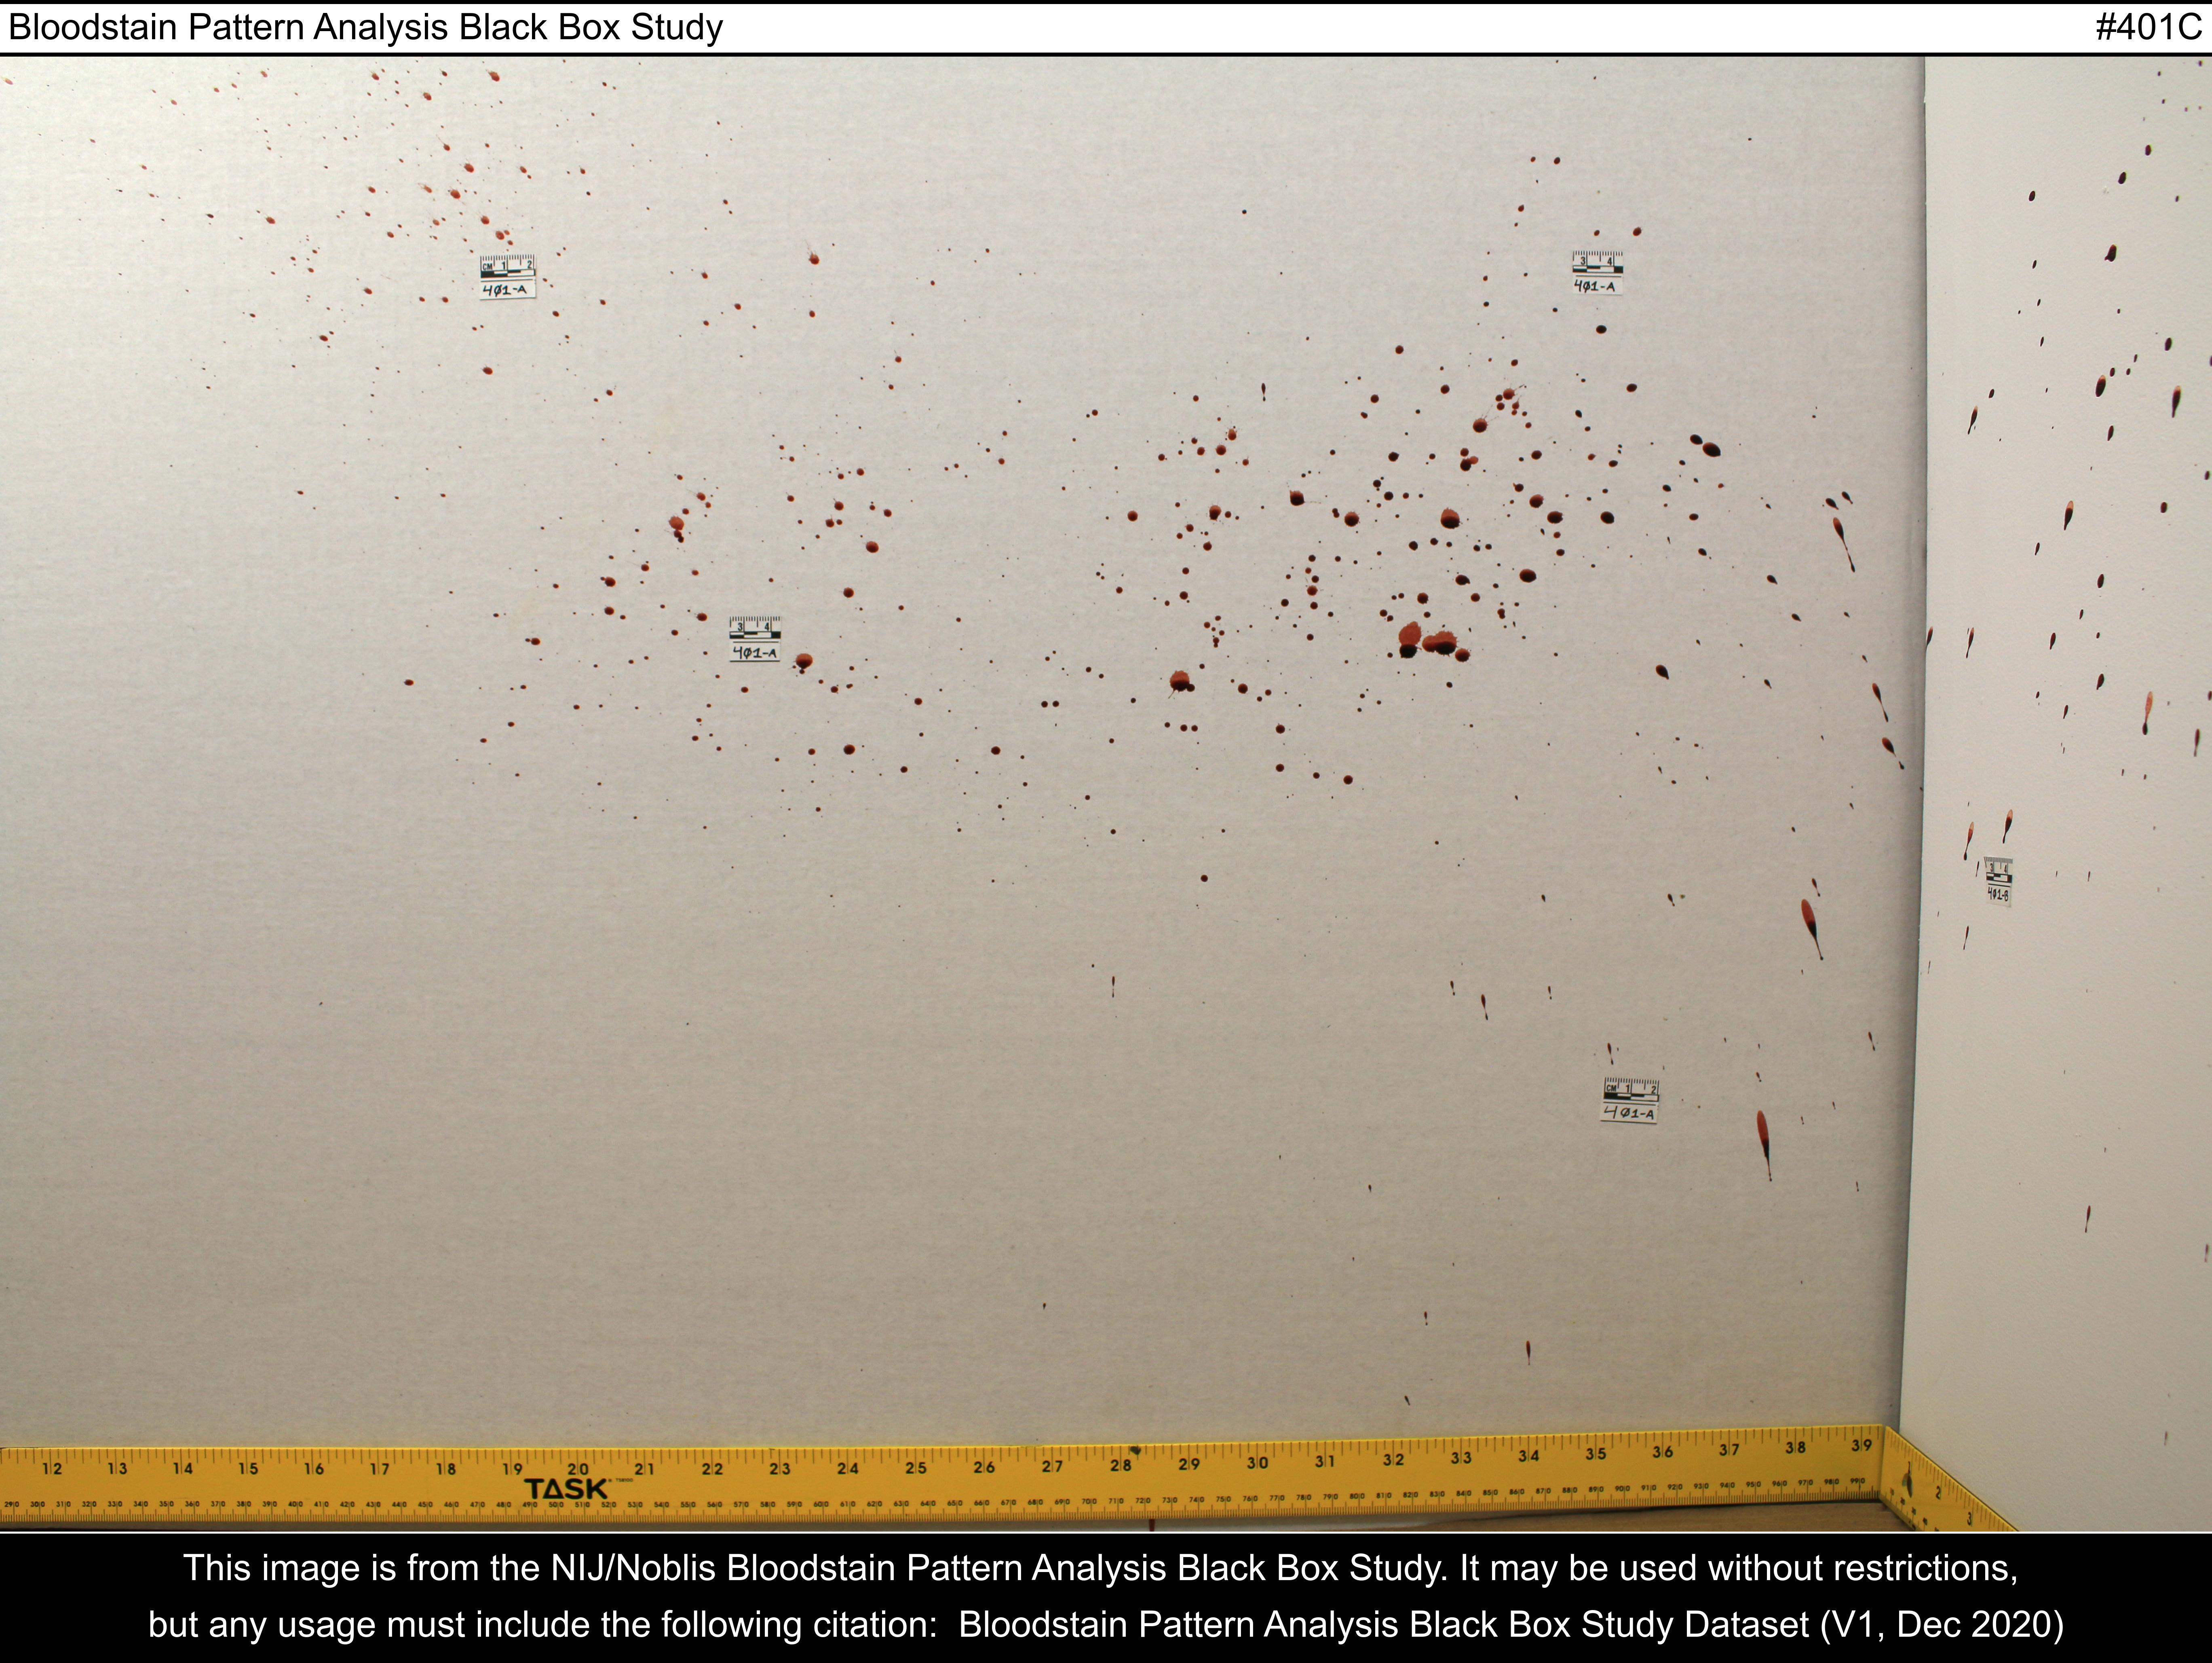Impact: (1128, 318, 1625, 914)
